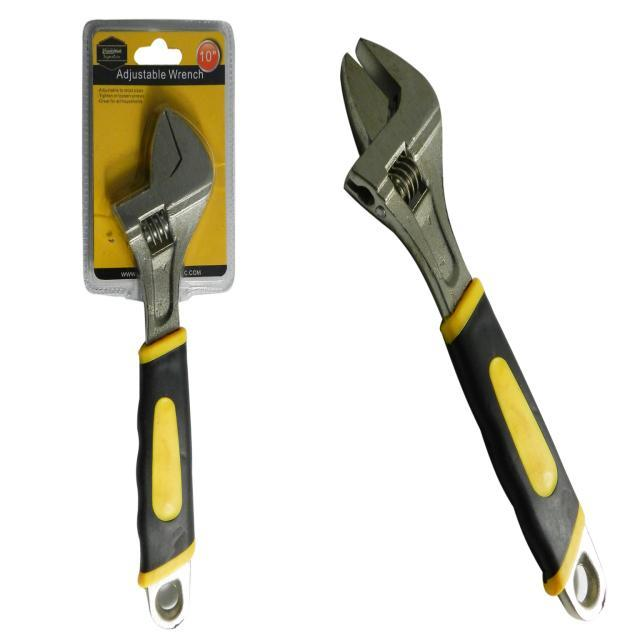wrench: (334, 34, 610, 625), (111, 102, 216, 638)
